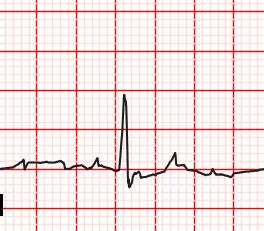ST Depression: (110, 158, 135, 191)
